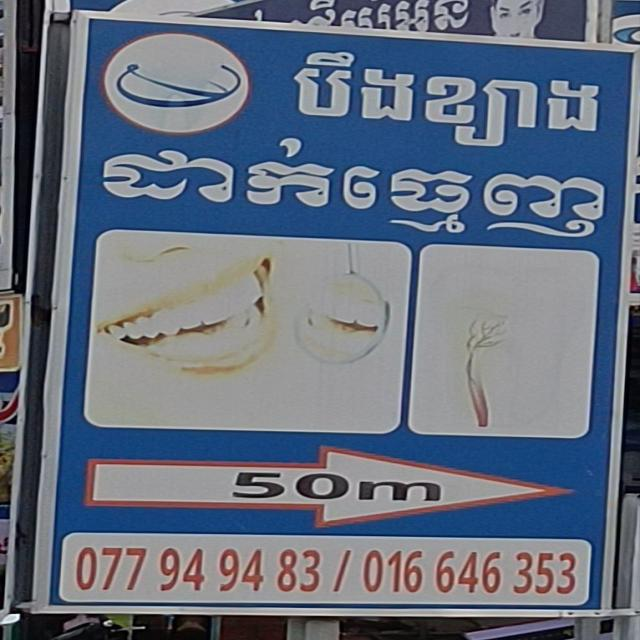Yolov11_80vkh: (88, 116, 625, 250), (274, 40, 612, 160)
